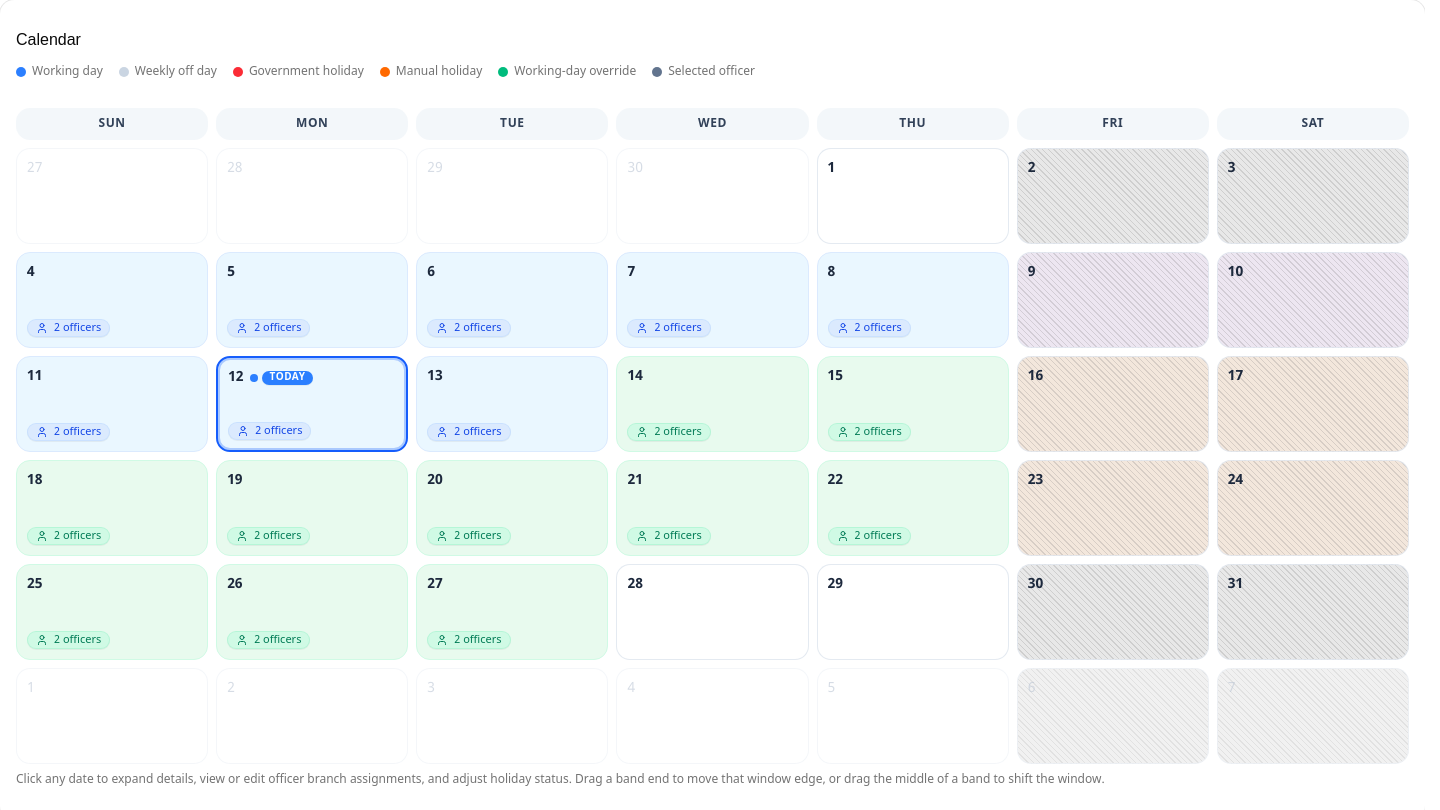
Test case: PlannerCalendar officer assignments & Google Calendar modal › toggles the Dates button between stages to show and hide custom date range inputs
The image size is (1440, 810).
Note: Open dialog
Click the button "4 2 officers".
click(112, 300)  # box [16, 252, 208, 348]
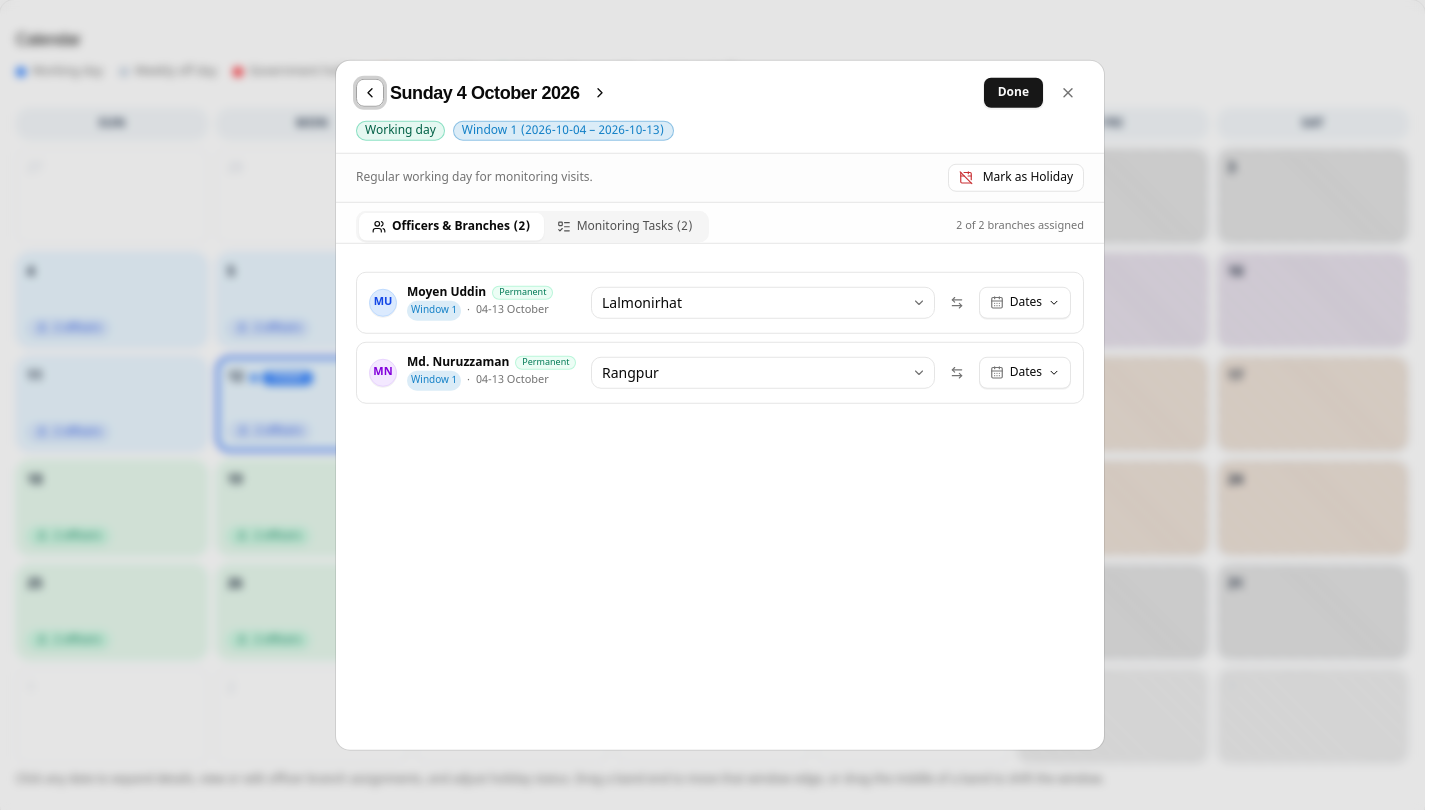
Expected: the text "Start date" is not shown
Expected: the button "Dates" in the row of "Moyen Uddin" is shown
Note: Click Dates button (stage 1: toggle open)
Click the button "Dates" in the row of "Moyen Uddin".
click(1025, 303)  # box [979, 287, 1071, 319]
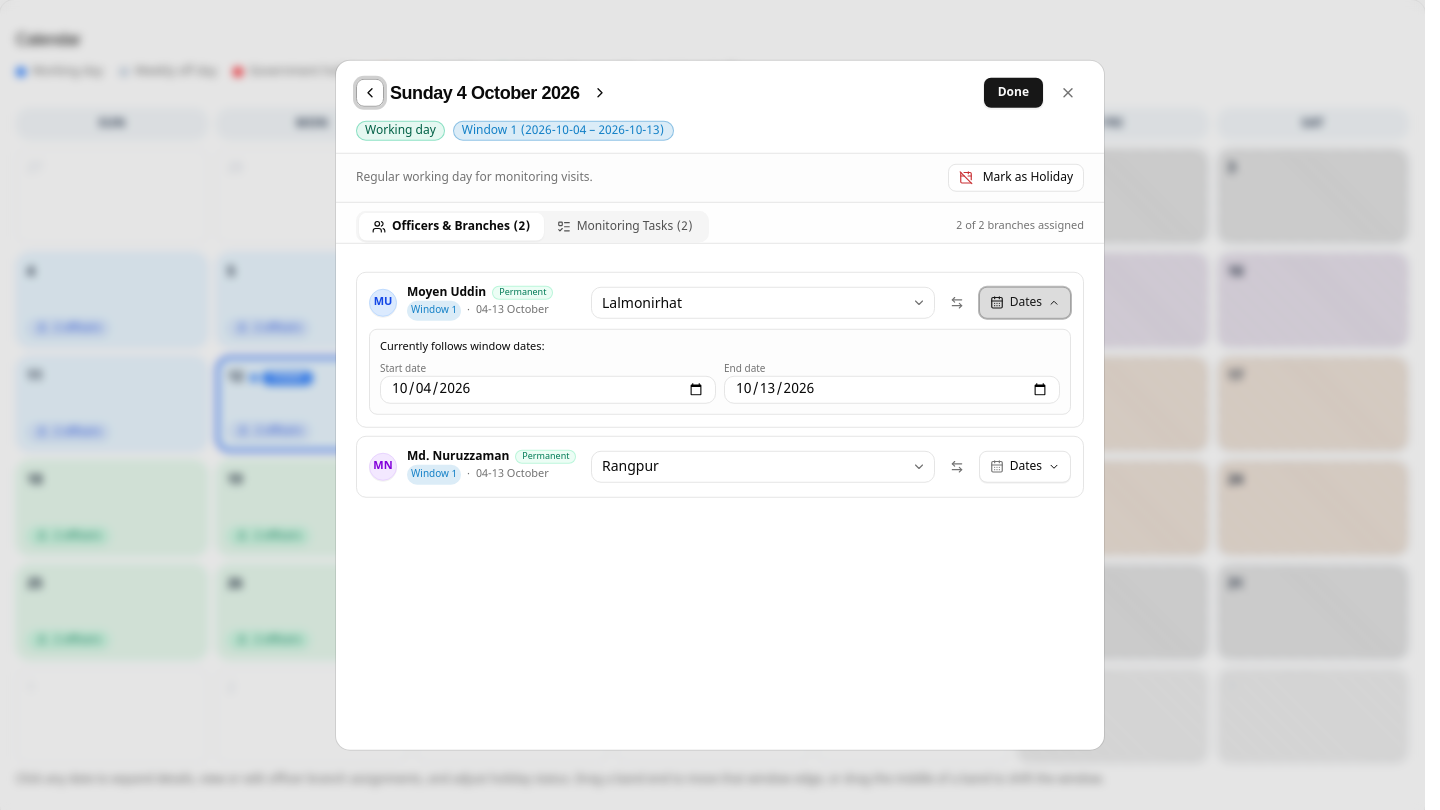
Expected: the text "Start date" is shown, [380, 362, 426, 375]
Expected: the text "End date" is shown, [724, 362, 766, 375]
Note: Click Dates button again (stage 2: toggle closed)
Click the button "Dates" in the row of "Moyen Uddin".
click(1025, 303)  # box [979, 287, 1071, 319]
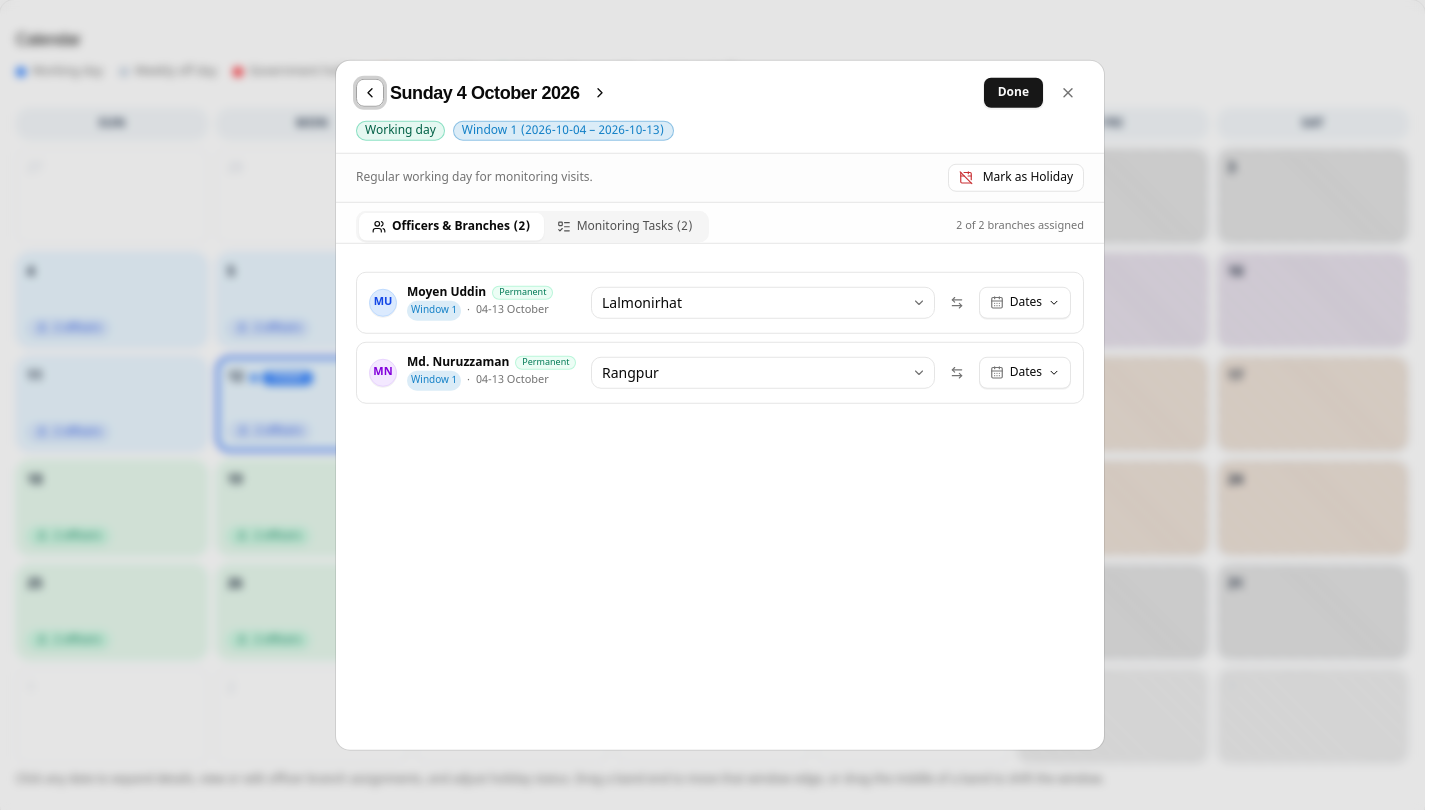
Expected: the text "Start date" is gone
